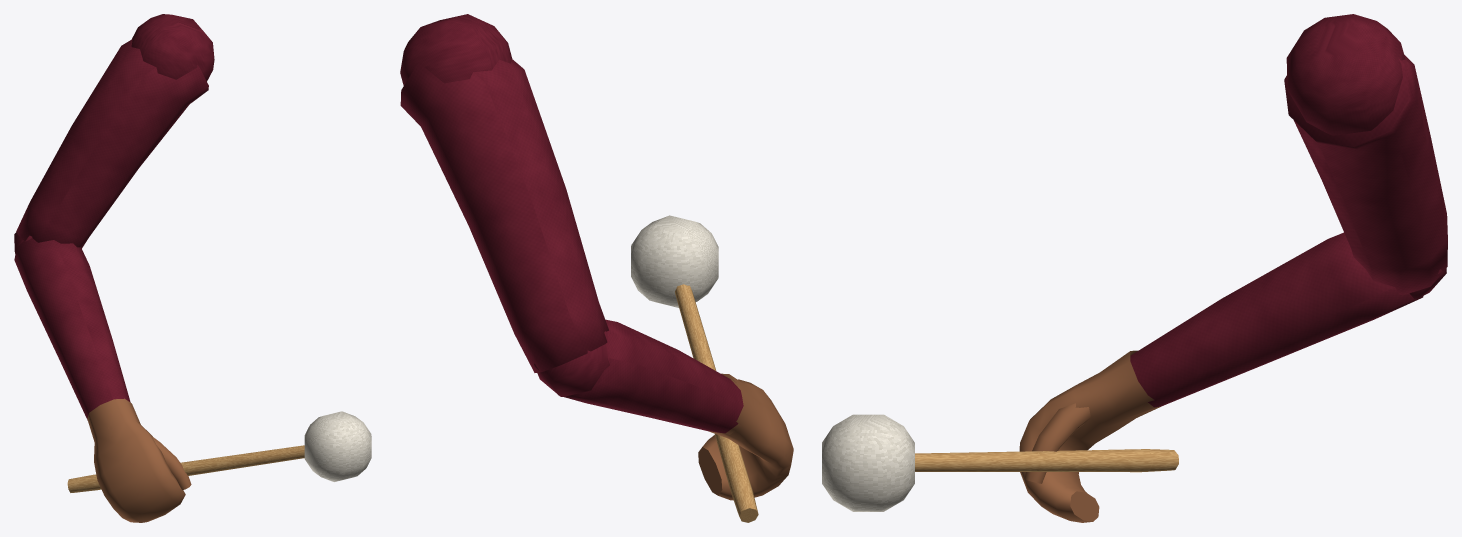
Rendered from brazoder.obj.
The picture shows the model from 3 angles, left to right: view 1: azimuth 30°, elevation 25°; view 2: azimuth 150°, elevation 25°; view 3: azimuth 270°, elevation 25°; orthographic projection. The views are drawn at different scales.
Parts seen in each view (by area): view 1: tambora_BrazoDer, tambora_AntebrazoDer, tambora_ManoDer, tambora_Maceta, tambora_HombroDer; view 2: tambora_BrazoDer, tambora_AntebrazoDer, tambora_Maceta, tambora_ManoDer, tambora_HombroDer, tambora_CodoDer; view 3: tambora_AntebrazoDer, tambora_BrazoDer, tambora_Maceta, tambora_HombroDer, tambora_ManoDer.
Part boxes in pixels (x1=…): tambora_BrazoDer: x1=16, y1=39, x2=208, y2=248; tambora_AntebrazoDer: x1=14, y1=235, x2=130, y2=428; tambora_ManoDer: x1=87, y1=398, x2=191, y2=522; tambora_Maceta: x1=67, y1=411, x2=371, y2=492; tambora_HombroDer: x1=131, y1=14, x2=214, y2=81; tambora_BrazoDer: x1=400, y1=59, x2=608, y2=372; tambora_AntebrazoDer: x1=558, y1=319, x2=754, y2=434; tambora_Maceta: x1=631, y1=215, x2=758, y2=522; tambora_ManoDer: x1=698, y1=373, x2=793, y2=500; tambora_HombroDer: x1=400, y1=14, x2=512, y2=85; tambora_CodoDer: x1=534, y1=331, x2=609, y2=396; tambora_AntebrazoDer: x1=1127, y1=232, x2=1423, y2=417; tambora_BrazoDer: x1=1284, y1=55, x2=1447, y2=295; tambora_Maceta: x1=822, y1=414, x2=1178, y2=511; tambora_HombroDer: x1=1286, y1=14, x2=1405, y2=135; tambora_ManoDer: x1=1019, y1=350, x2=1159, y2=522.
Size of the model in its own units: 0.2636 by 0.4998 by 0.4876.
Materials: 4 (4 with a texture image).
